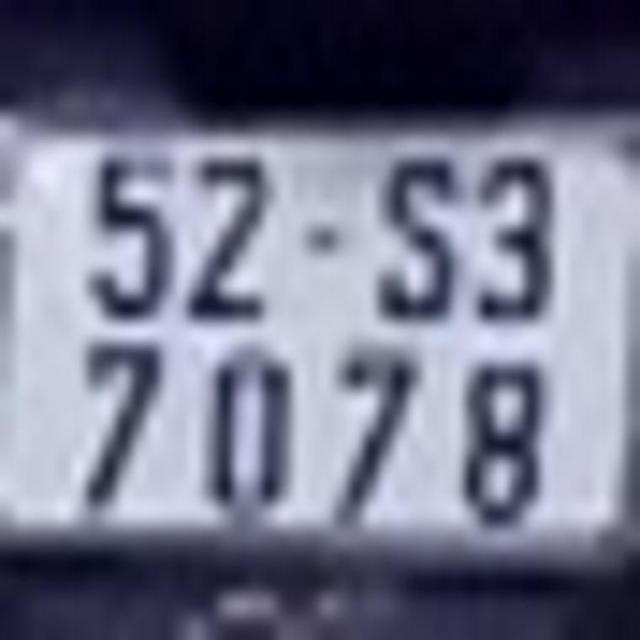0: (210, 336, 294, 517)
2: (192, 150, 270, 326)
3: (483, 147, 557, 335)
5: (92, 146, 174, 327)
7: (324, 334, 421, 534), (75, 328, 167, 516)
8: (452, 340, 546, 532)
S: (376, 146, 460, 328)
